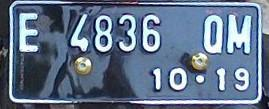clone-license-plate: (9, 0, 261, 104)
